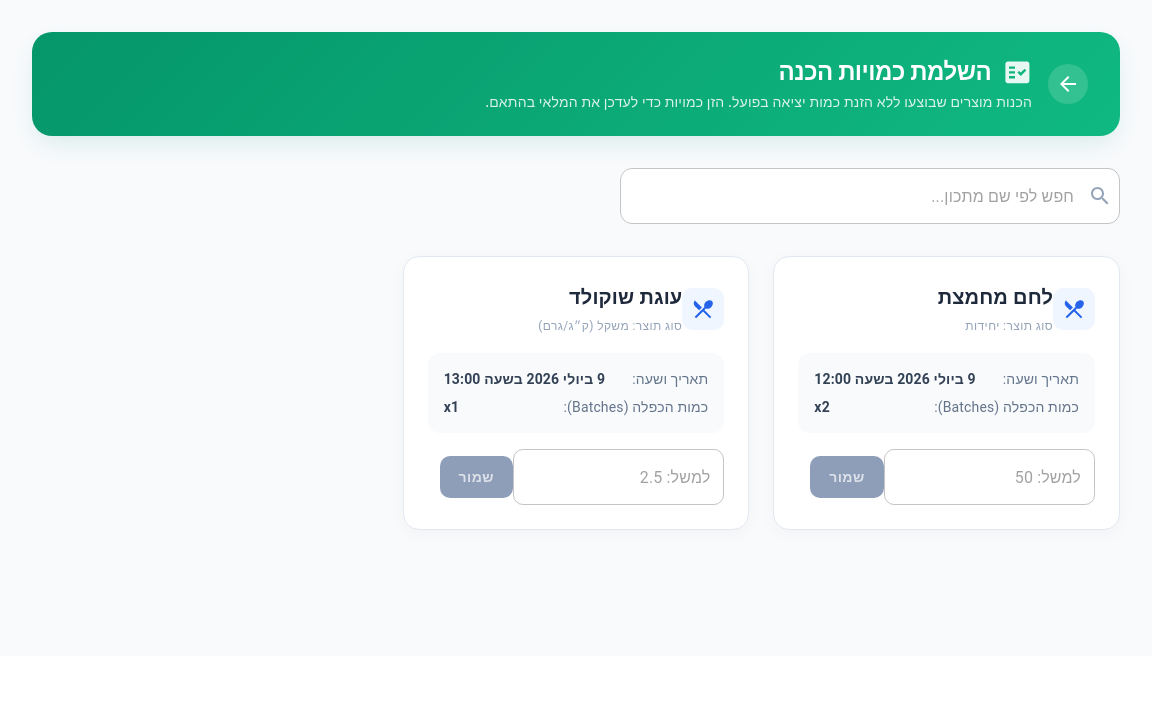
it: PendingPreparationsPage › filters executions by recipe name when searching
Check: the heading "לחם מחמצת" is shown, box x1=938 y1=285 x2=1053 y2=309
Step 1. Type "עוגת" into the field with placeholder "חפש לפי שם מתכון..." → [861, 196], box x1=634 y1=168 x2=1088 y2=224
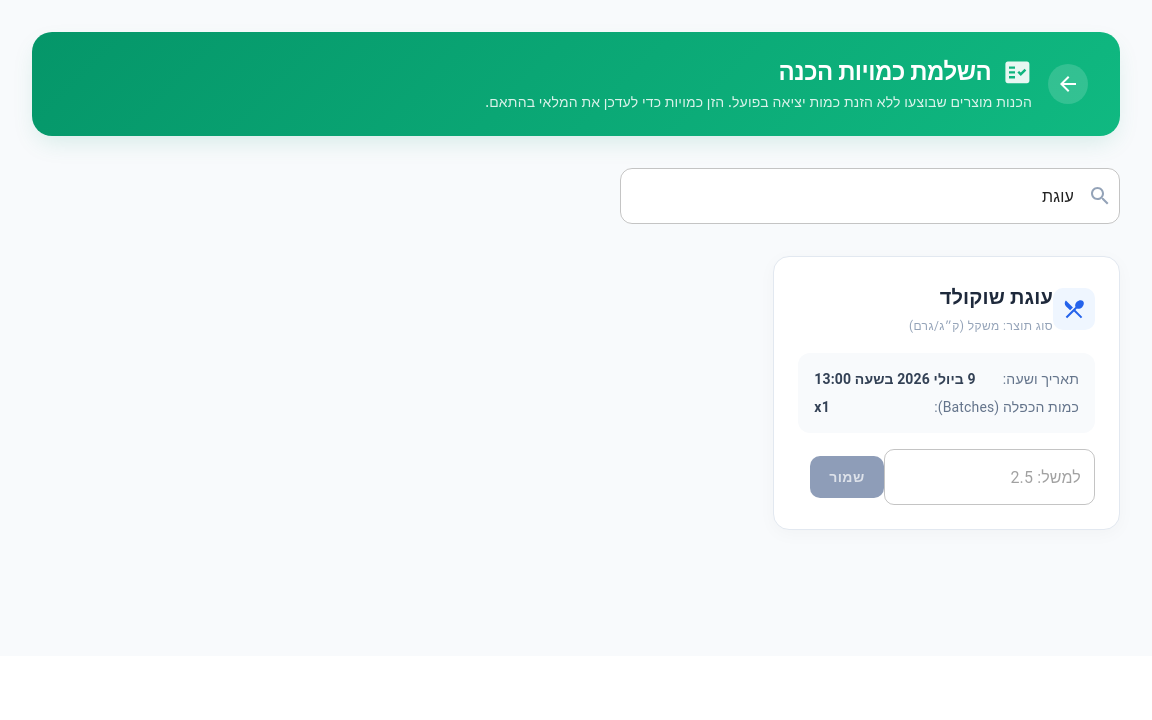
Check: the heading "עוגת שוקולד" is shown, box x1=940 y1=285 x2=1053 y2=309
Check: the heading "לחם מחמצת" is gone
